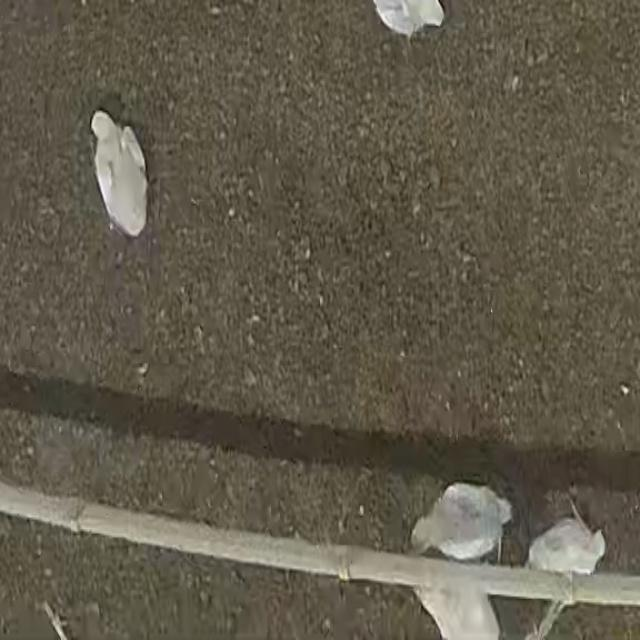chicken: (89, 106, 151, 238), (411, 484, 514, 559), (407, 578, 502, 640), (522, 521, 607, 577), (367, 0, 448, 42)
